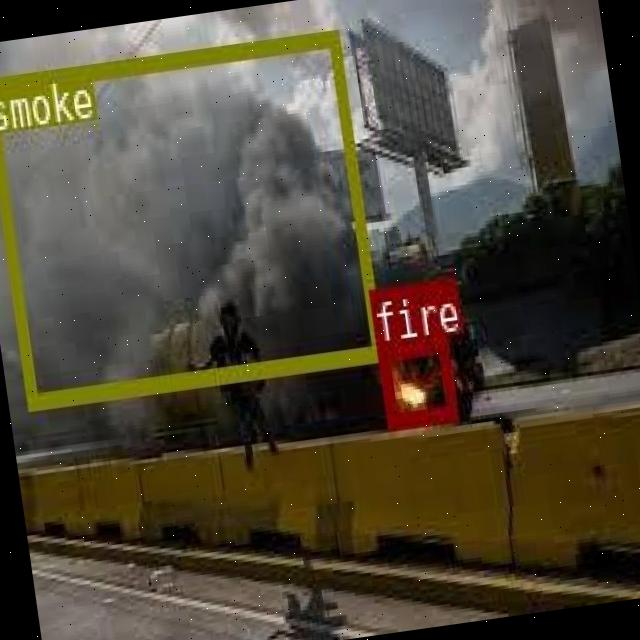fire: (376, 334, 456, 428)
smoke: (0, 29, 381, 409)
